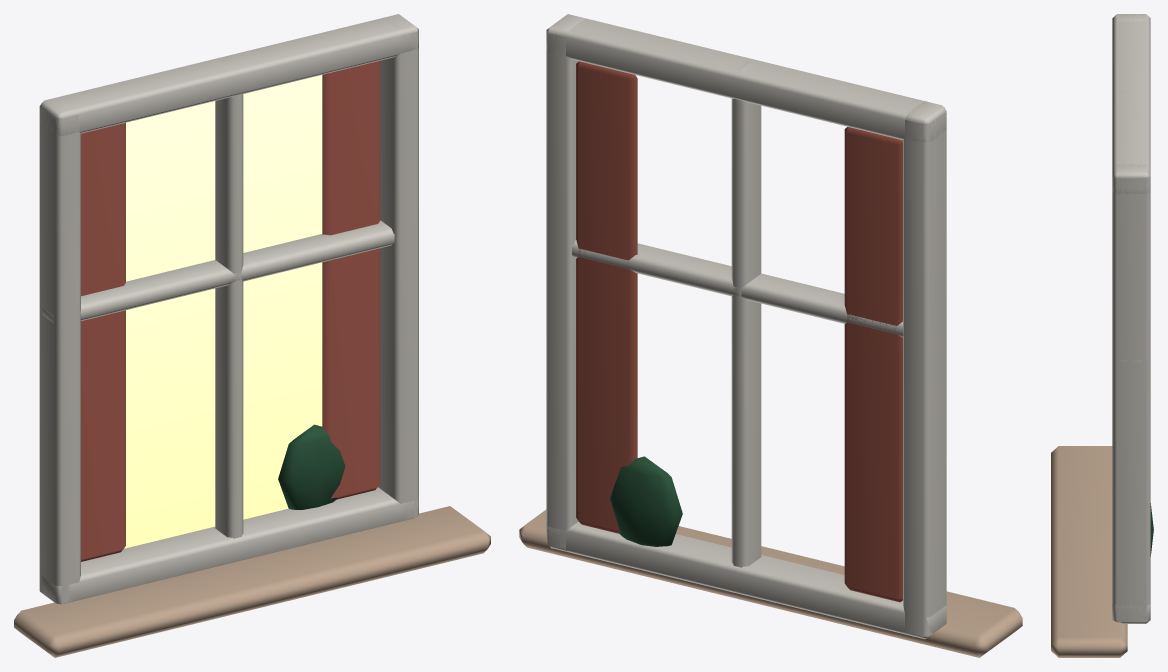
Rendered from window_lit.glb.
3 views of the same model, side by side, from view 1: azimuth 30°, elevation 25°; view 2: azimuth 150°, elevation 25°; view 3: azimuth 270°, elevation 25° (orthographic). The views are drawn at different scales.
Parts seen in each view (by area): view 1: window_lit, glass; view 2: window_lit; view 3: window_lit.
Part boxes in pixels (<box>): window_lit: <box>14,14,490,657</box>; glass: <box>124,75,322,548</box>; window_lit: <box>519,14,1022,657</box>; window_lit: <box>1051,14,1153,657</box>.
Size of the model in its own units: 1.22 by 1.35 by 0.268.
